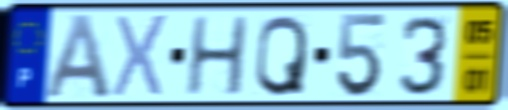3: (398, 13, 451, 98)
5: (333, 10, 388, 100)
A: (41, 12, 114, 102)
H: (183, 13, 251, 98)
Q: (252, 12, 310, 99)
X: (109, 11, 171, 101)
